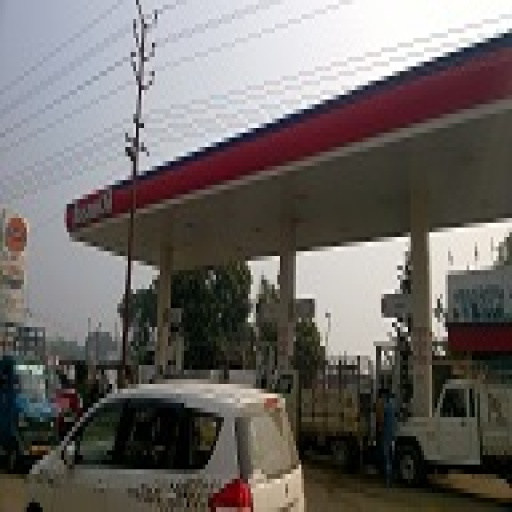roof: (67, 25, 510, 278)
